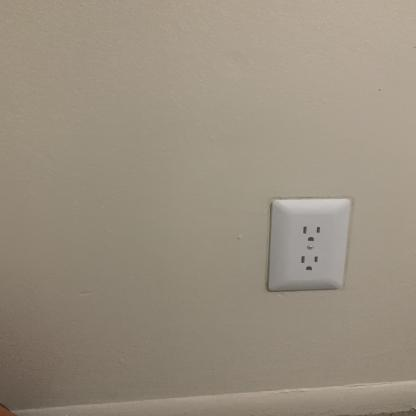OUTLET: (270, 199, 350, 288)
